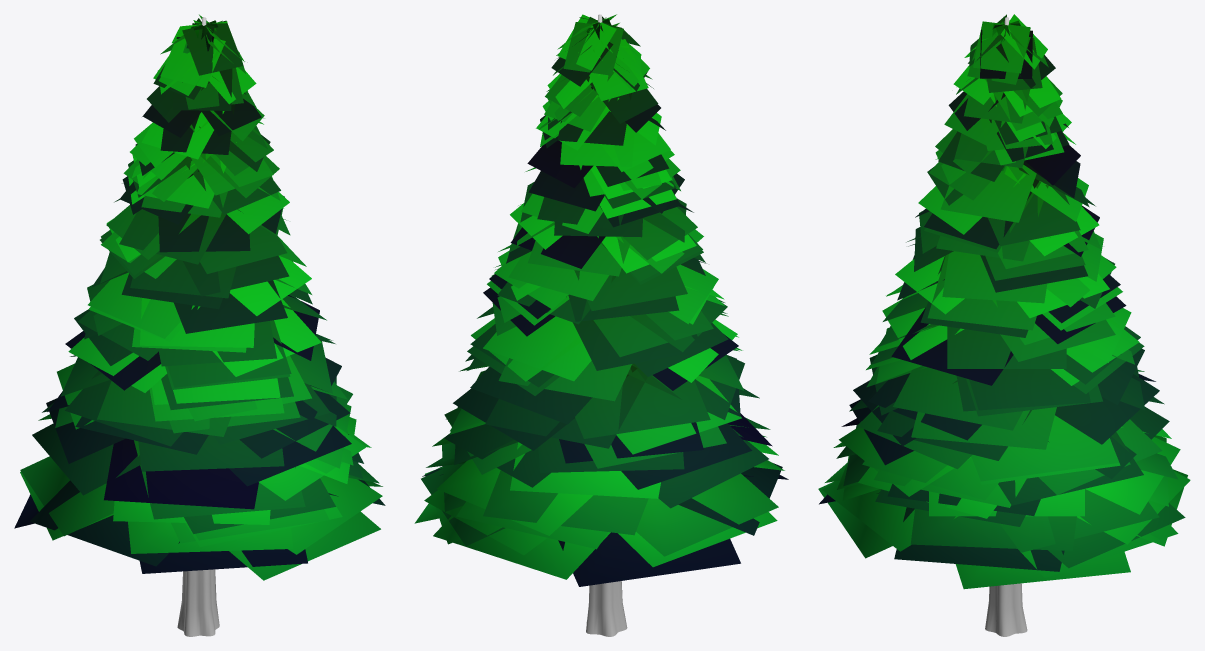
The model's file is Tree_Pine1.fbx.
3 renders of one model, left to right at view 1: azimuth 30°, elevation 25°; view 2: azimuth 150°, elevation 25°; view 3: azimuth 270°, elevation 25°, orthographic.
Visible parts, largest first — view 1: Tree_1, Tree_0; view 2: Tree_1, Tree_0; view 3: Tree_1, Tree_0.
Part boxes in pixels (left/top/right/bottom): Tree_1: left=14, top=14, right=385, bottom=580; Tree_0: left=177, top=17, right=219, bottom=636; Tree_1: left=414, top=14, right=788, bottom=586; Tree_0: left=586, top=14, right=627, bottom=636; Tree_1: left=818, top=14, right=1190, bottom=589; Tree_0: left=985, top=17, right=1027, bottom=636.
Bounding box in the file's own units: 722 × 1302 × 717.
